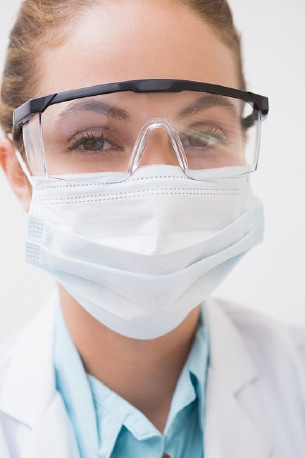Mask: (14, 65, 280, 331)
